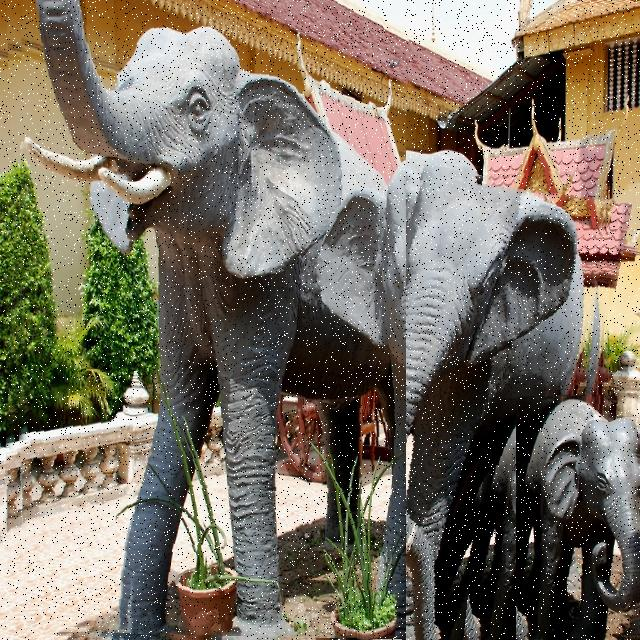elephant: (6, 0, 406, 640), (330, 167, 611, 640), (516, 393, 640, 640)
